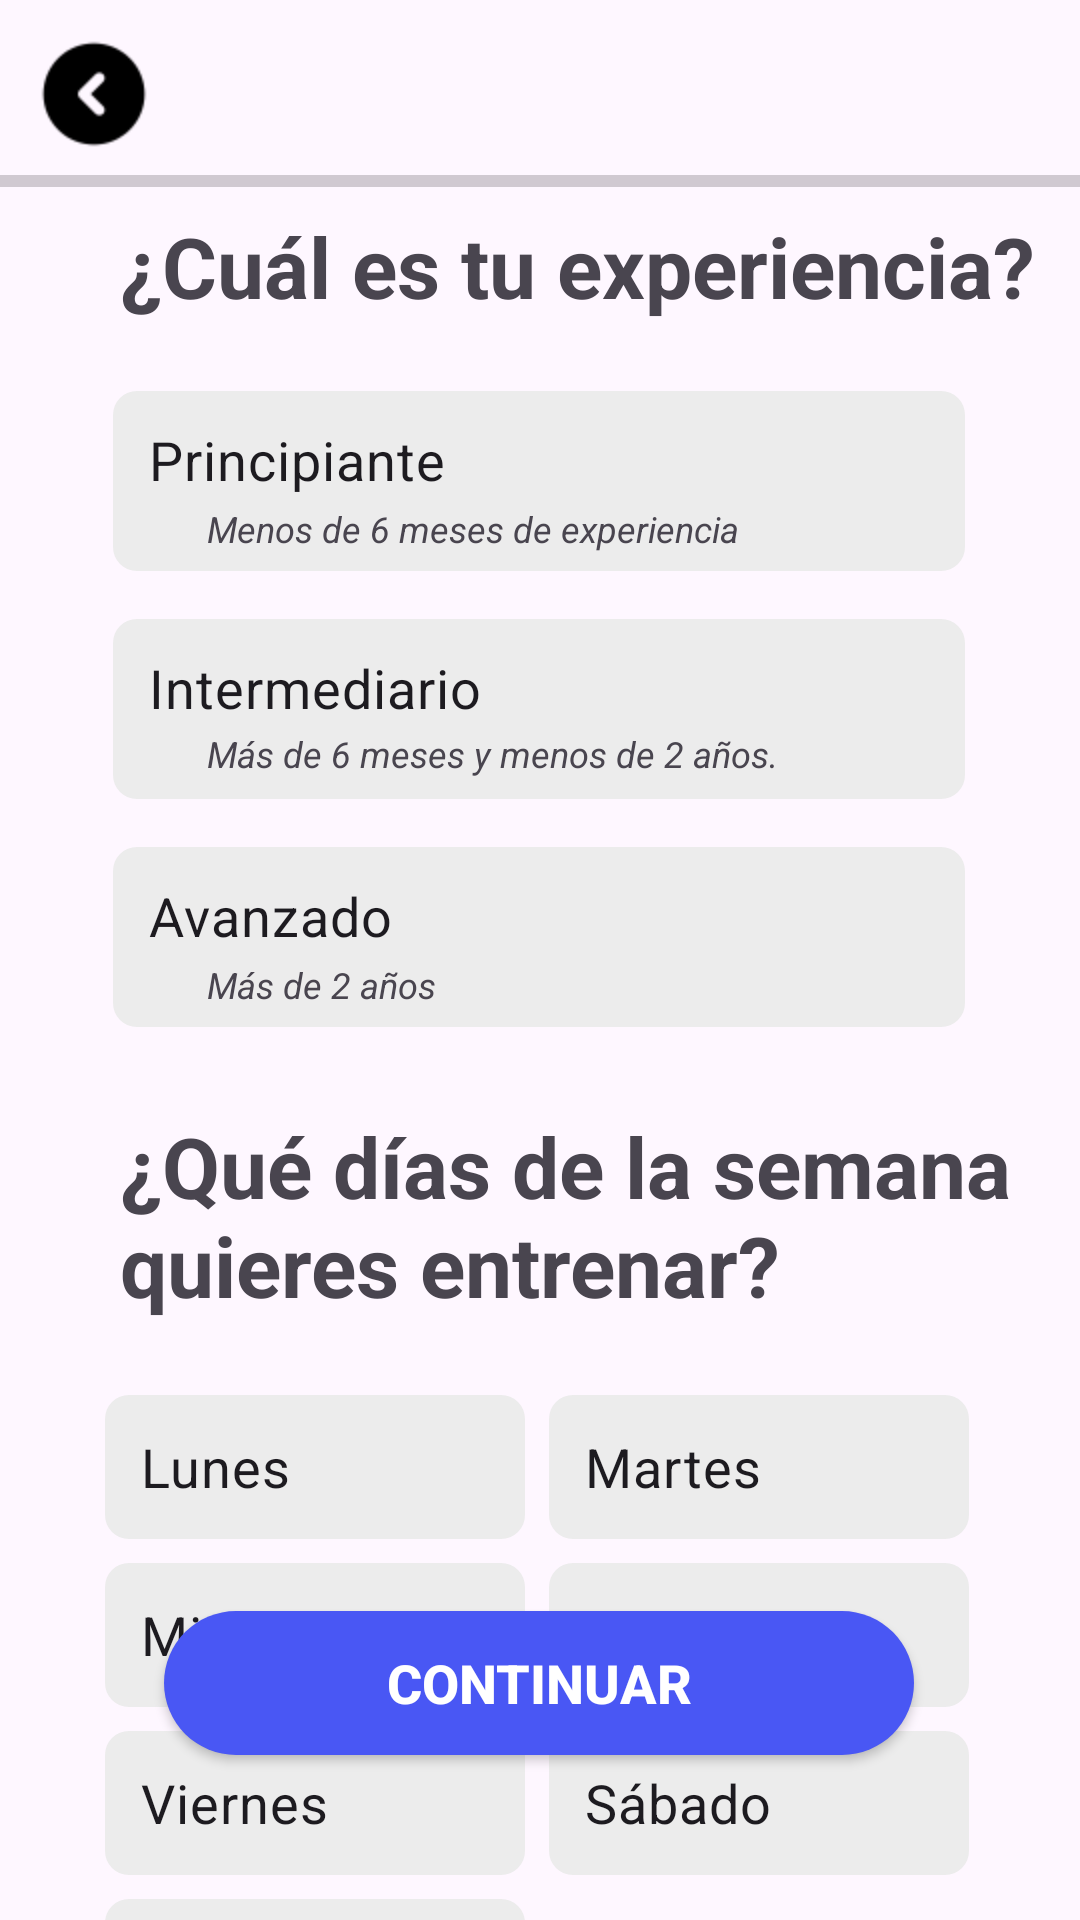

Locate icon controls on the screen. Image size 1080px×1920px, boxes as bbox=[x1, y1, x2, y2].
flecha: bbox=[42, 42, 146, 146]
